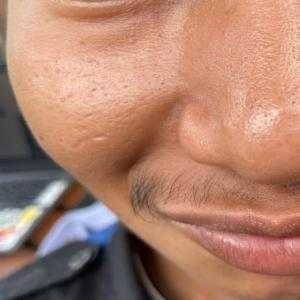Oily-Skin: (172, 0, 300, 176), (8, 47, 181, 127)
